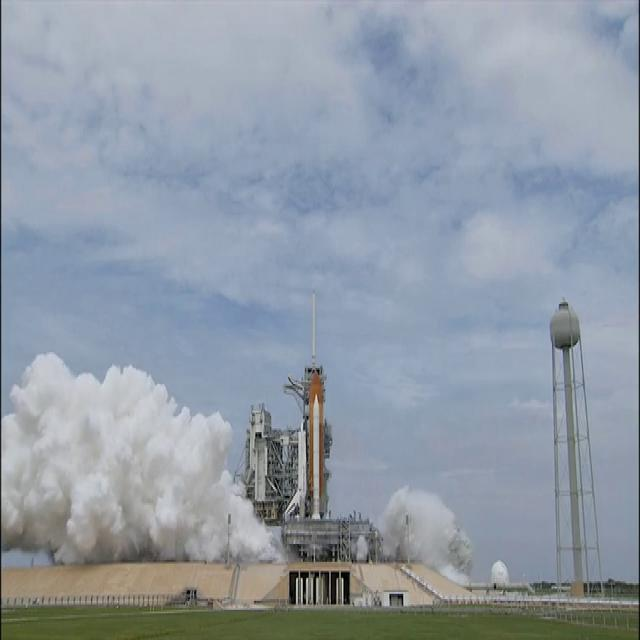smoke: (46, 408, 116, 557), (118, 440, 194, 548), (1, 413, 43, 545), (194, 462, 232, 551), (18, 362, 68, 408), (133, 380, 170, 442), (73, 371, 129, 410), (172, 407, 202, 440), (422, 498, 447, 534), (398, 489, 419, 526), (434, 536, 458, 568), (381, 514, 401, 552), (400, 530, 430, 554), (235, 499, 252, 537), (208, 416, 224, 456), (492, 558, 510, 590), (258, 528, 276, 558), (455, 539, 468, 573)
